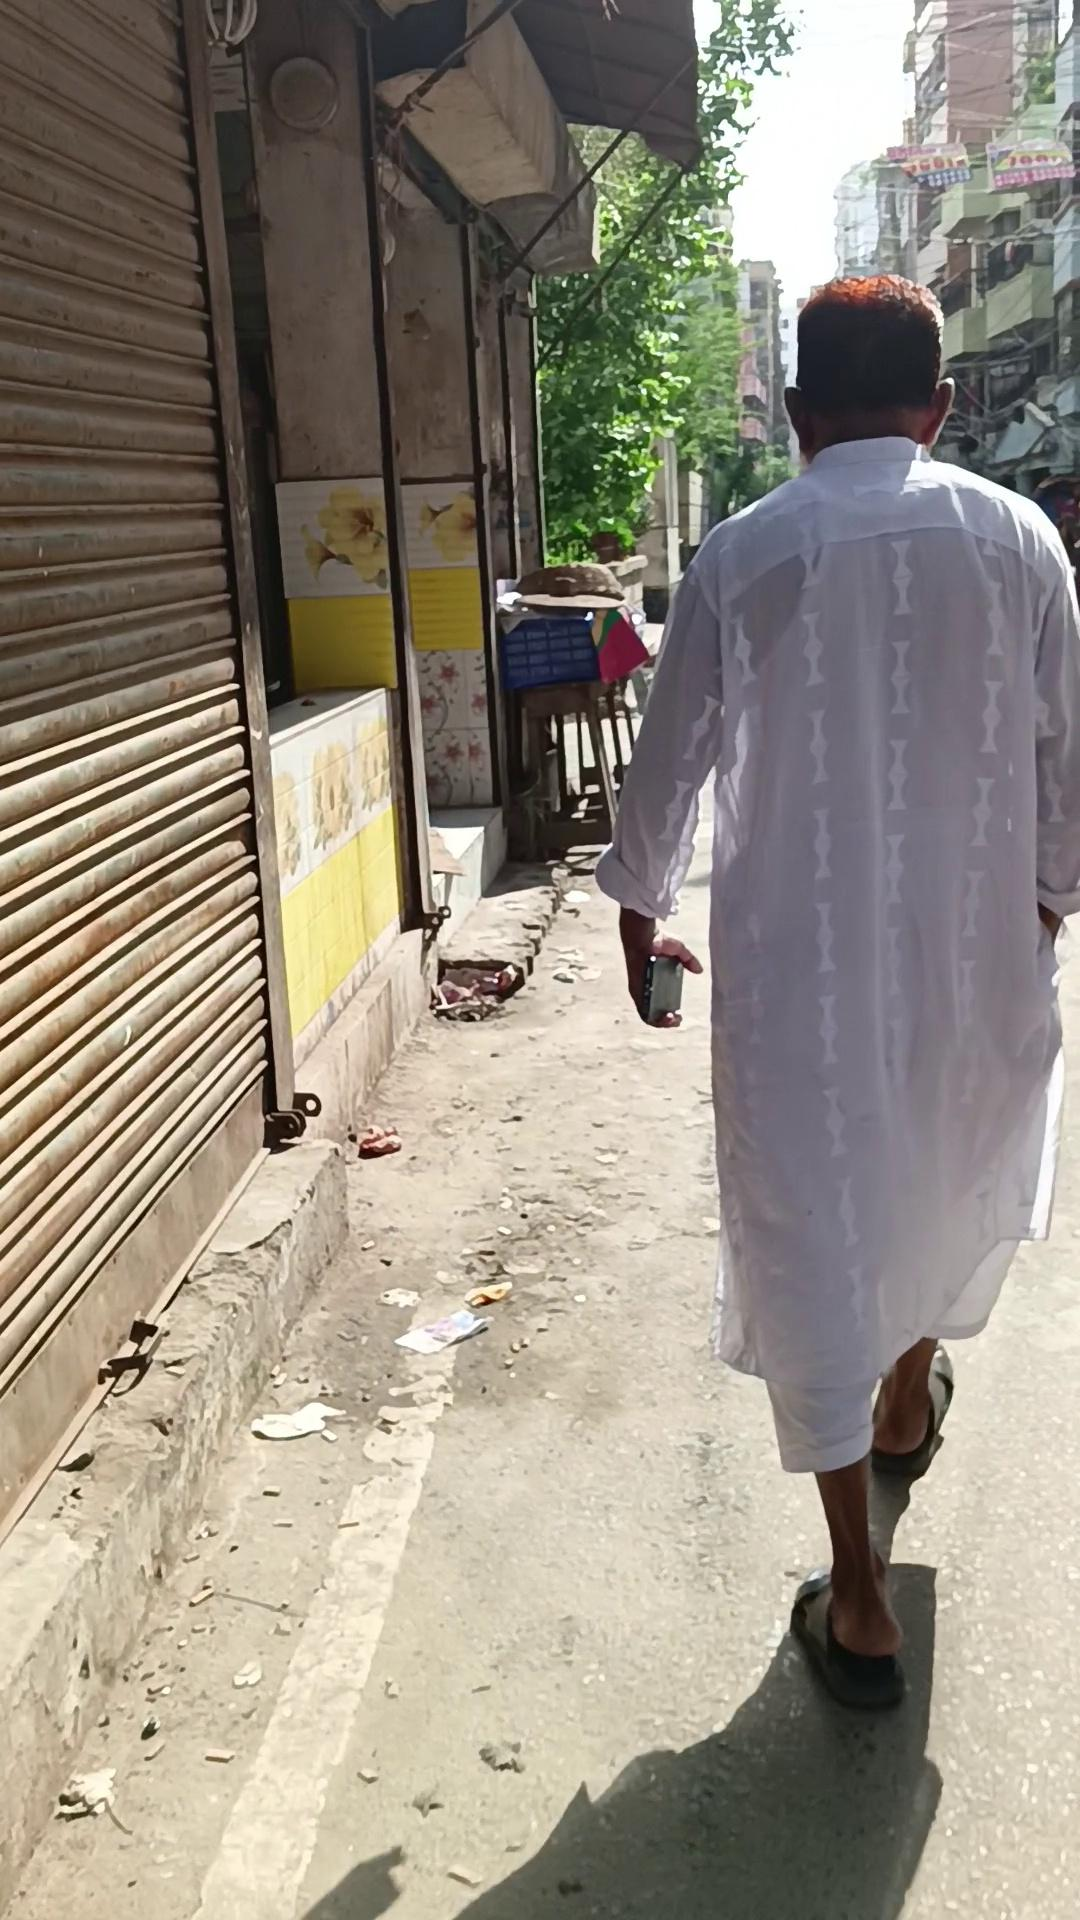Crosswalk: (3, 847, 578, 1915), (1, 1133, 352, 1913)
Motorcycle: (495, 571, 646, 858)
Muddy road: (593, 272, 1079, 1710)
Potted-plant: (5, 752, 1077, 1916)
